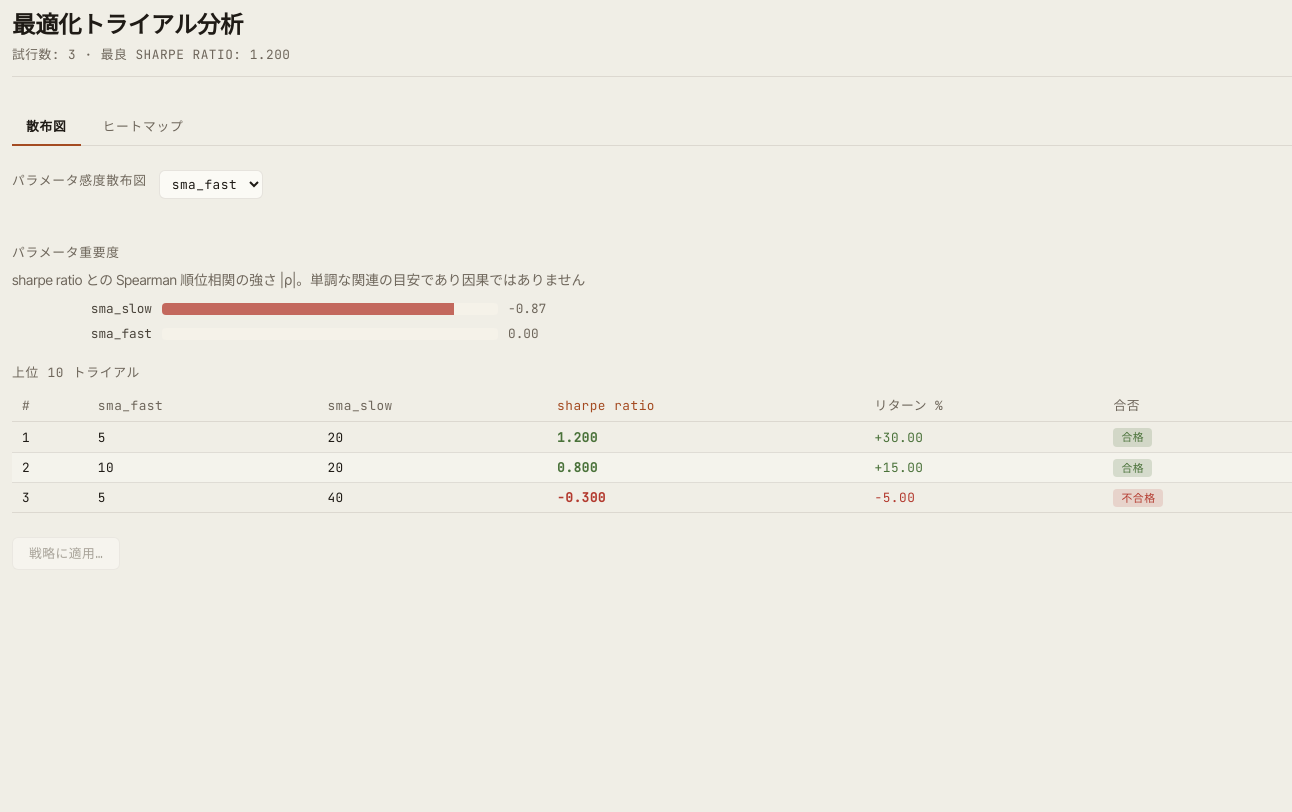
Test: <OptimizeScreen /> ビュー切替 › 散布図タブに戻すと散布図ビューを再表示する
The width and height of the screenshot is (1292, 812).
Click the tab "ヒートマップ". click: (143, 128)
box: [88,109,198,146]
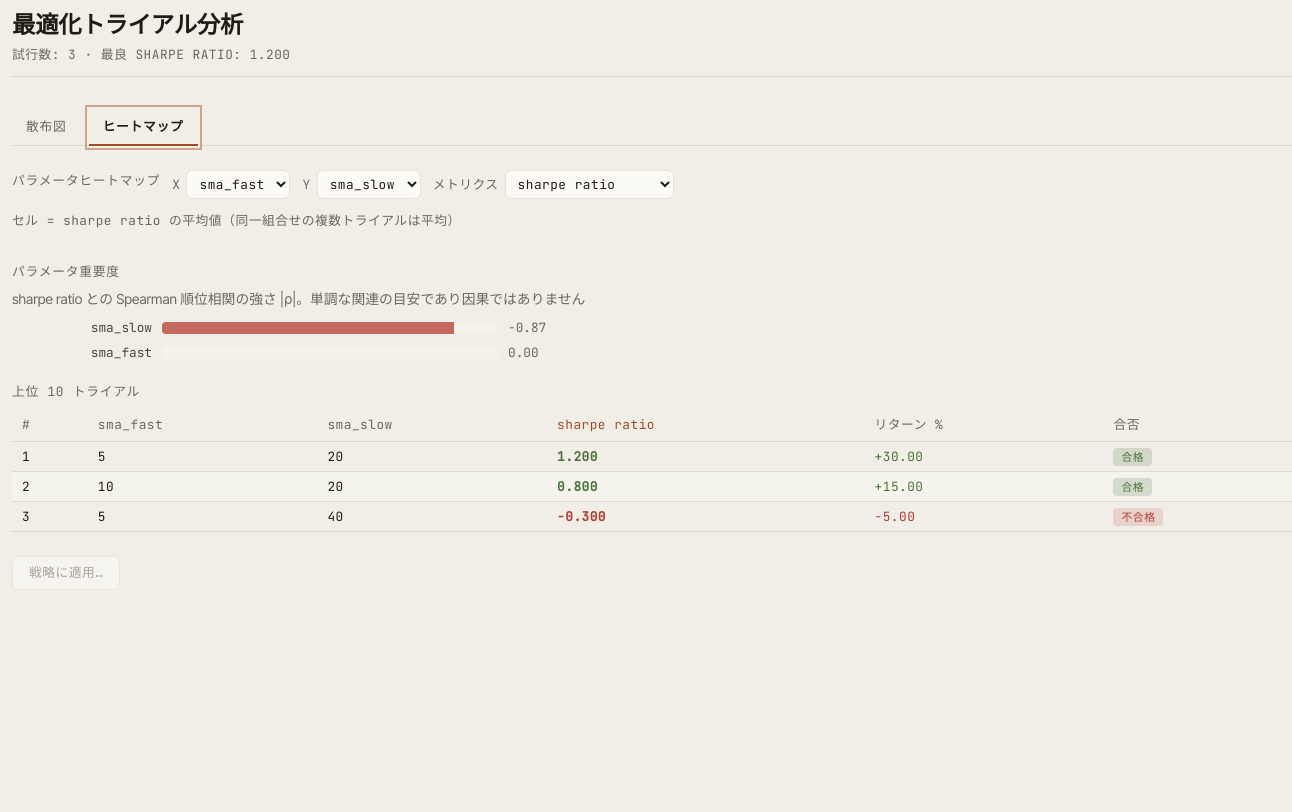
Click the tab "散布図". click: (46, 128)
box: [12,109,80,146]
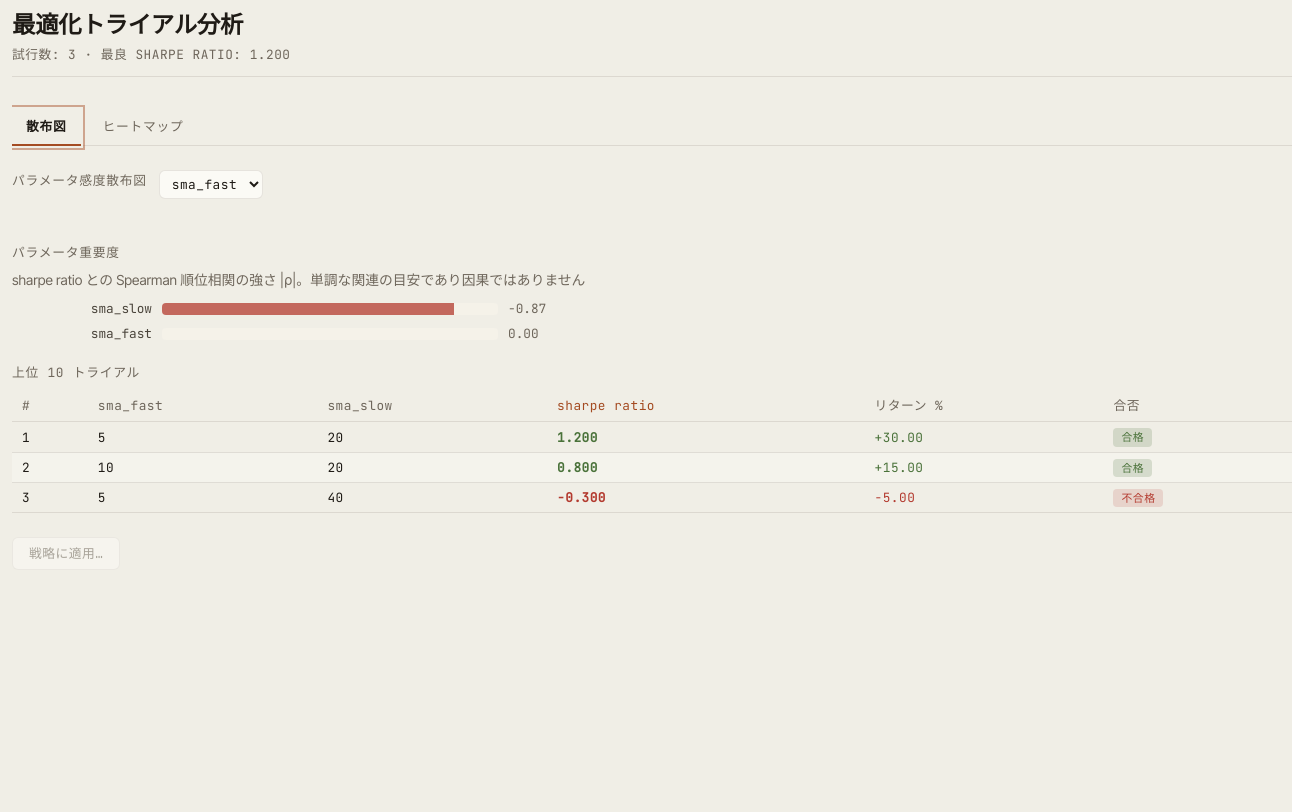
Now the text "パラメータ感度散布図" is shown, box [12,171,147,190]
Now the element with test id "optimize-heatmap" is gone
